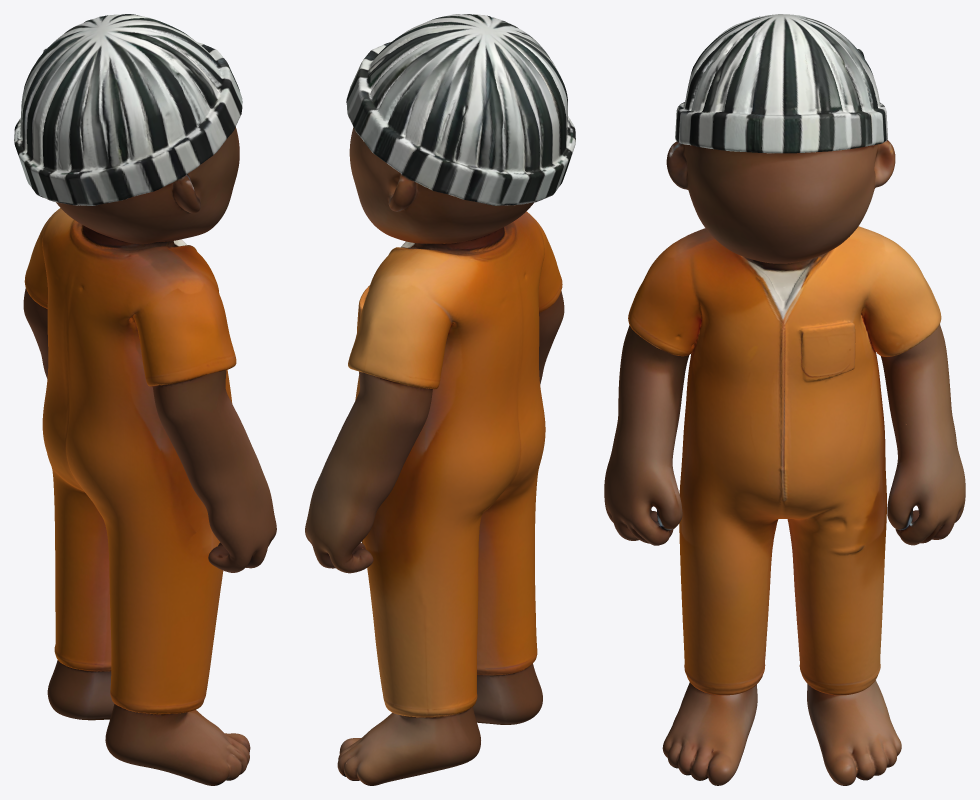
Rendered from tripo_convert_97da62d0-cac5-4861-868c-0ebf81952e4d.fbx.
3 renders of one model, left to right at view 1: azimuth 30°, elevation 25°; view 2: azimuth 150°, elevation 25°; view 3: azimuth 270°, elevation 25°, orthographic. The views are drawn at different scales.
Visible parts, largest first — view 1: tripo_node_97da62d0; view 2: tripo_node_97da62d0; view 3: tripo_node_97da62d0.
Boxes of the visible parts, x1,y1,x2,y2 form: tripo_node_97da62d0: (14, 14, 276, 785); tripo_node_97da62d0: (305, 14, 575, 785); tripo_node_97da62d0: (604, 14, 965, 785).
Size of the model in its own units: 0.2862 by 1 by 0.453.
Materials: 1 (1 with a texture image).
